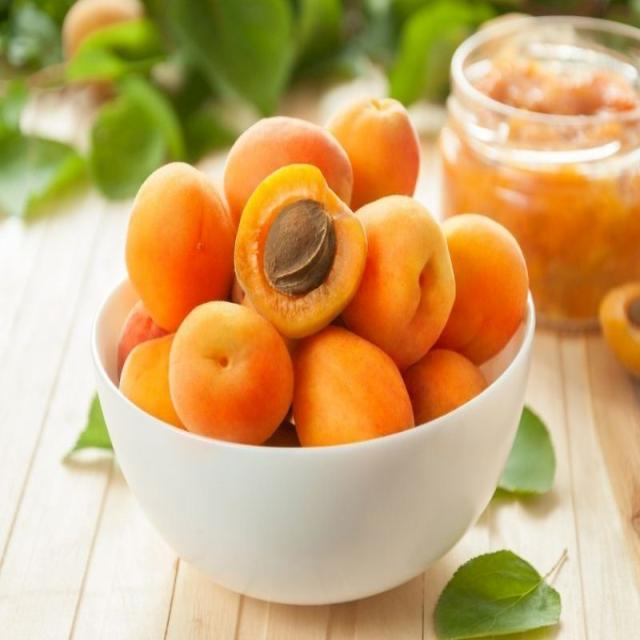cekirdek: (264, 200, 333, 294)
kayisi: (230, 164, 369, 329), (122, 165, 229, 332), (170, 304, 291, 444), (357, 199, 450, 361), (437, 214, 530, 360), (296, 331, 412, 443), (225, 118, 351, 215), (325, 95, 420, 195)
yaprak: (431, 553, 560, 633)
